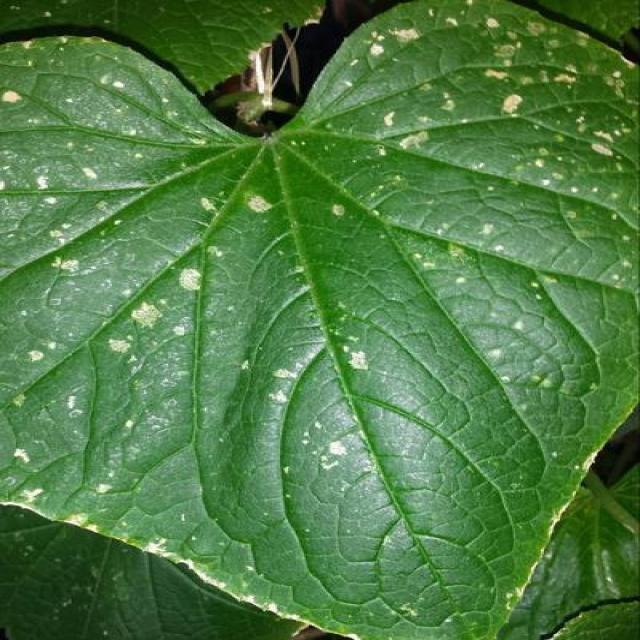Thrips: (25, 49, 611, 587)
